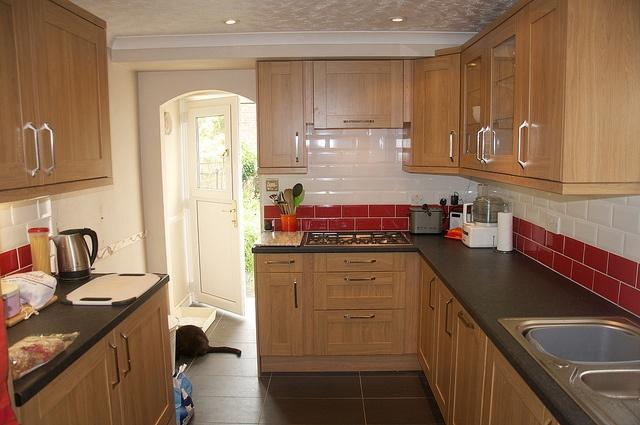Lemari: (406, 0, 570, 194), (0, 0, 114, 204), (255, 59, 305, 172)
